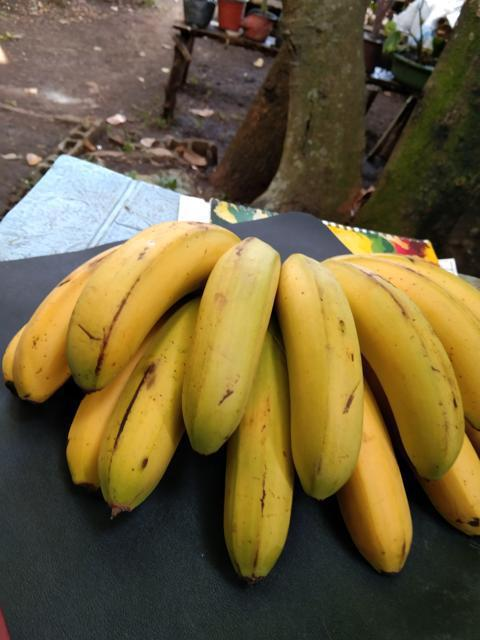freshripe: (329, 258, 467, 477), (59, 205, 228, 368), (272, 236, 368, 511), (178, 232, 284, 441), (89, 329, 194, 522), (220, 434, 304, 593)
